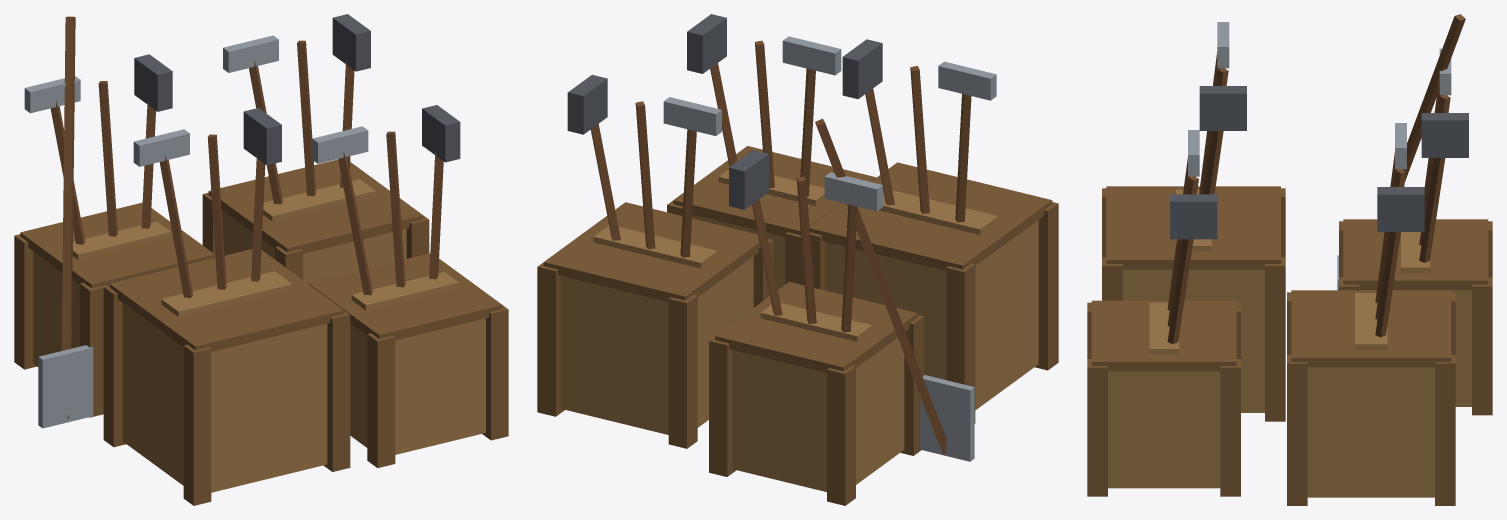
The model's file is pile_tools_3.glb.
3 renders of one model, left to right at view 1: azimuth 30°, elevation 25°; view 2: azimuth 150°, elevation 25°; view 3: azimuth 270°, elevation 25°, orthographic. The views are drawn at different scales.
Visible parts, largest first — view 1: pile_tools_3; view 2: pile_tools_3; view 3: pile_tools_3.
Part boxes in pixels (<box>): pile_tools_3: <box>14,14,508,505</box>; pile_tools_3: <box>537,14,1058,505</box>; pile_tools_3: <box>1087,14,1492,505</box>.
Bounding box in the file's own units: 1.44 × 1.32 × 1.37.
